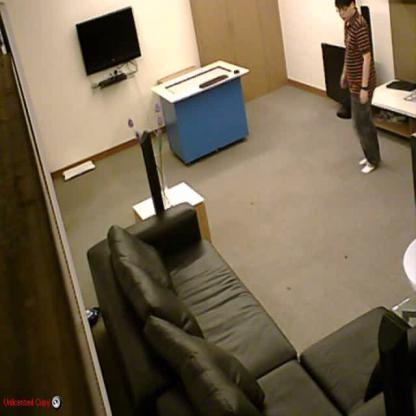Person: (334, 0, 383, 174)
